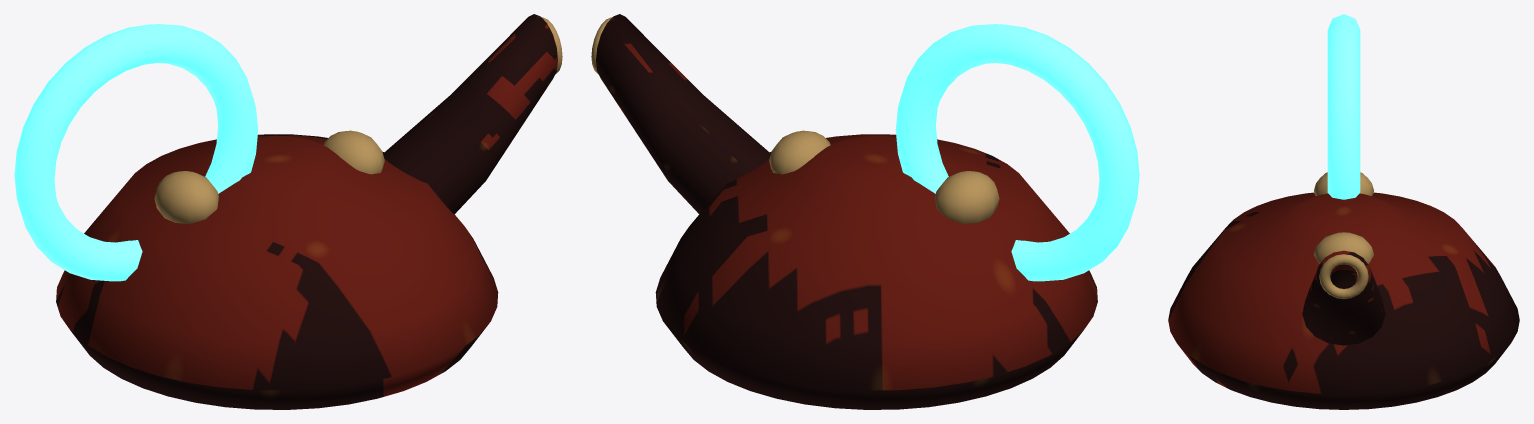
The model's file is ceremonial_lamp_pattern_cinnabar.fbx.
The picture shows the model from 3 angles, left to right: view 1: azimuth 30°, elevation 25°; view 2: azimuth 150°, elevation 25°; view 3: azimuth 270°, elevation 25°; orthographic projection. The views are drawn at different scales.
Parts seen in each view (by area): view 1: Reviewed_ceremonial_lamp_Body.005, TH10_Lamp_Handle.008; view 2: Reviewed_ceremonial_lamp_Body.005, TH10_Lamp_Handle.008; view 3: Reviewed_ceremonial_lamp_Body.005, TH10_Lamp_Handle.008.
Boxes of the visible parts, x1,y1,x2,y2 form: Reviewed_ceremonial_lamp_Body.005: [56, 14, 562, 409]; TH10_Lamp_Handle.008: [14, 24, 258, 281]; Reviewed_ceremonial_lamp_Body.005: [591, 14, 1097, 409]; TH10_Lamp_Handle.008: [895, 24, 1139, 281]; Reviewed_ceremonial_lamp_Body.005: [1168, 172, 1519, 409]; TH10_Lamp_Handle.008: [1327, 14, 1360, 199].
Bounding box in the file's own units: 0.178 × 0.106 × 0.128.
Materials: 3 (1 with a texture image).
